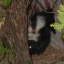skunk: (28, 11, 52, 54)
